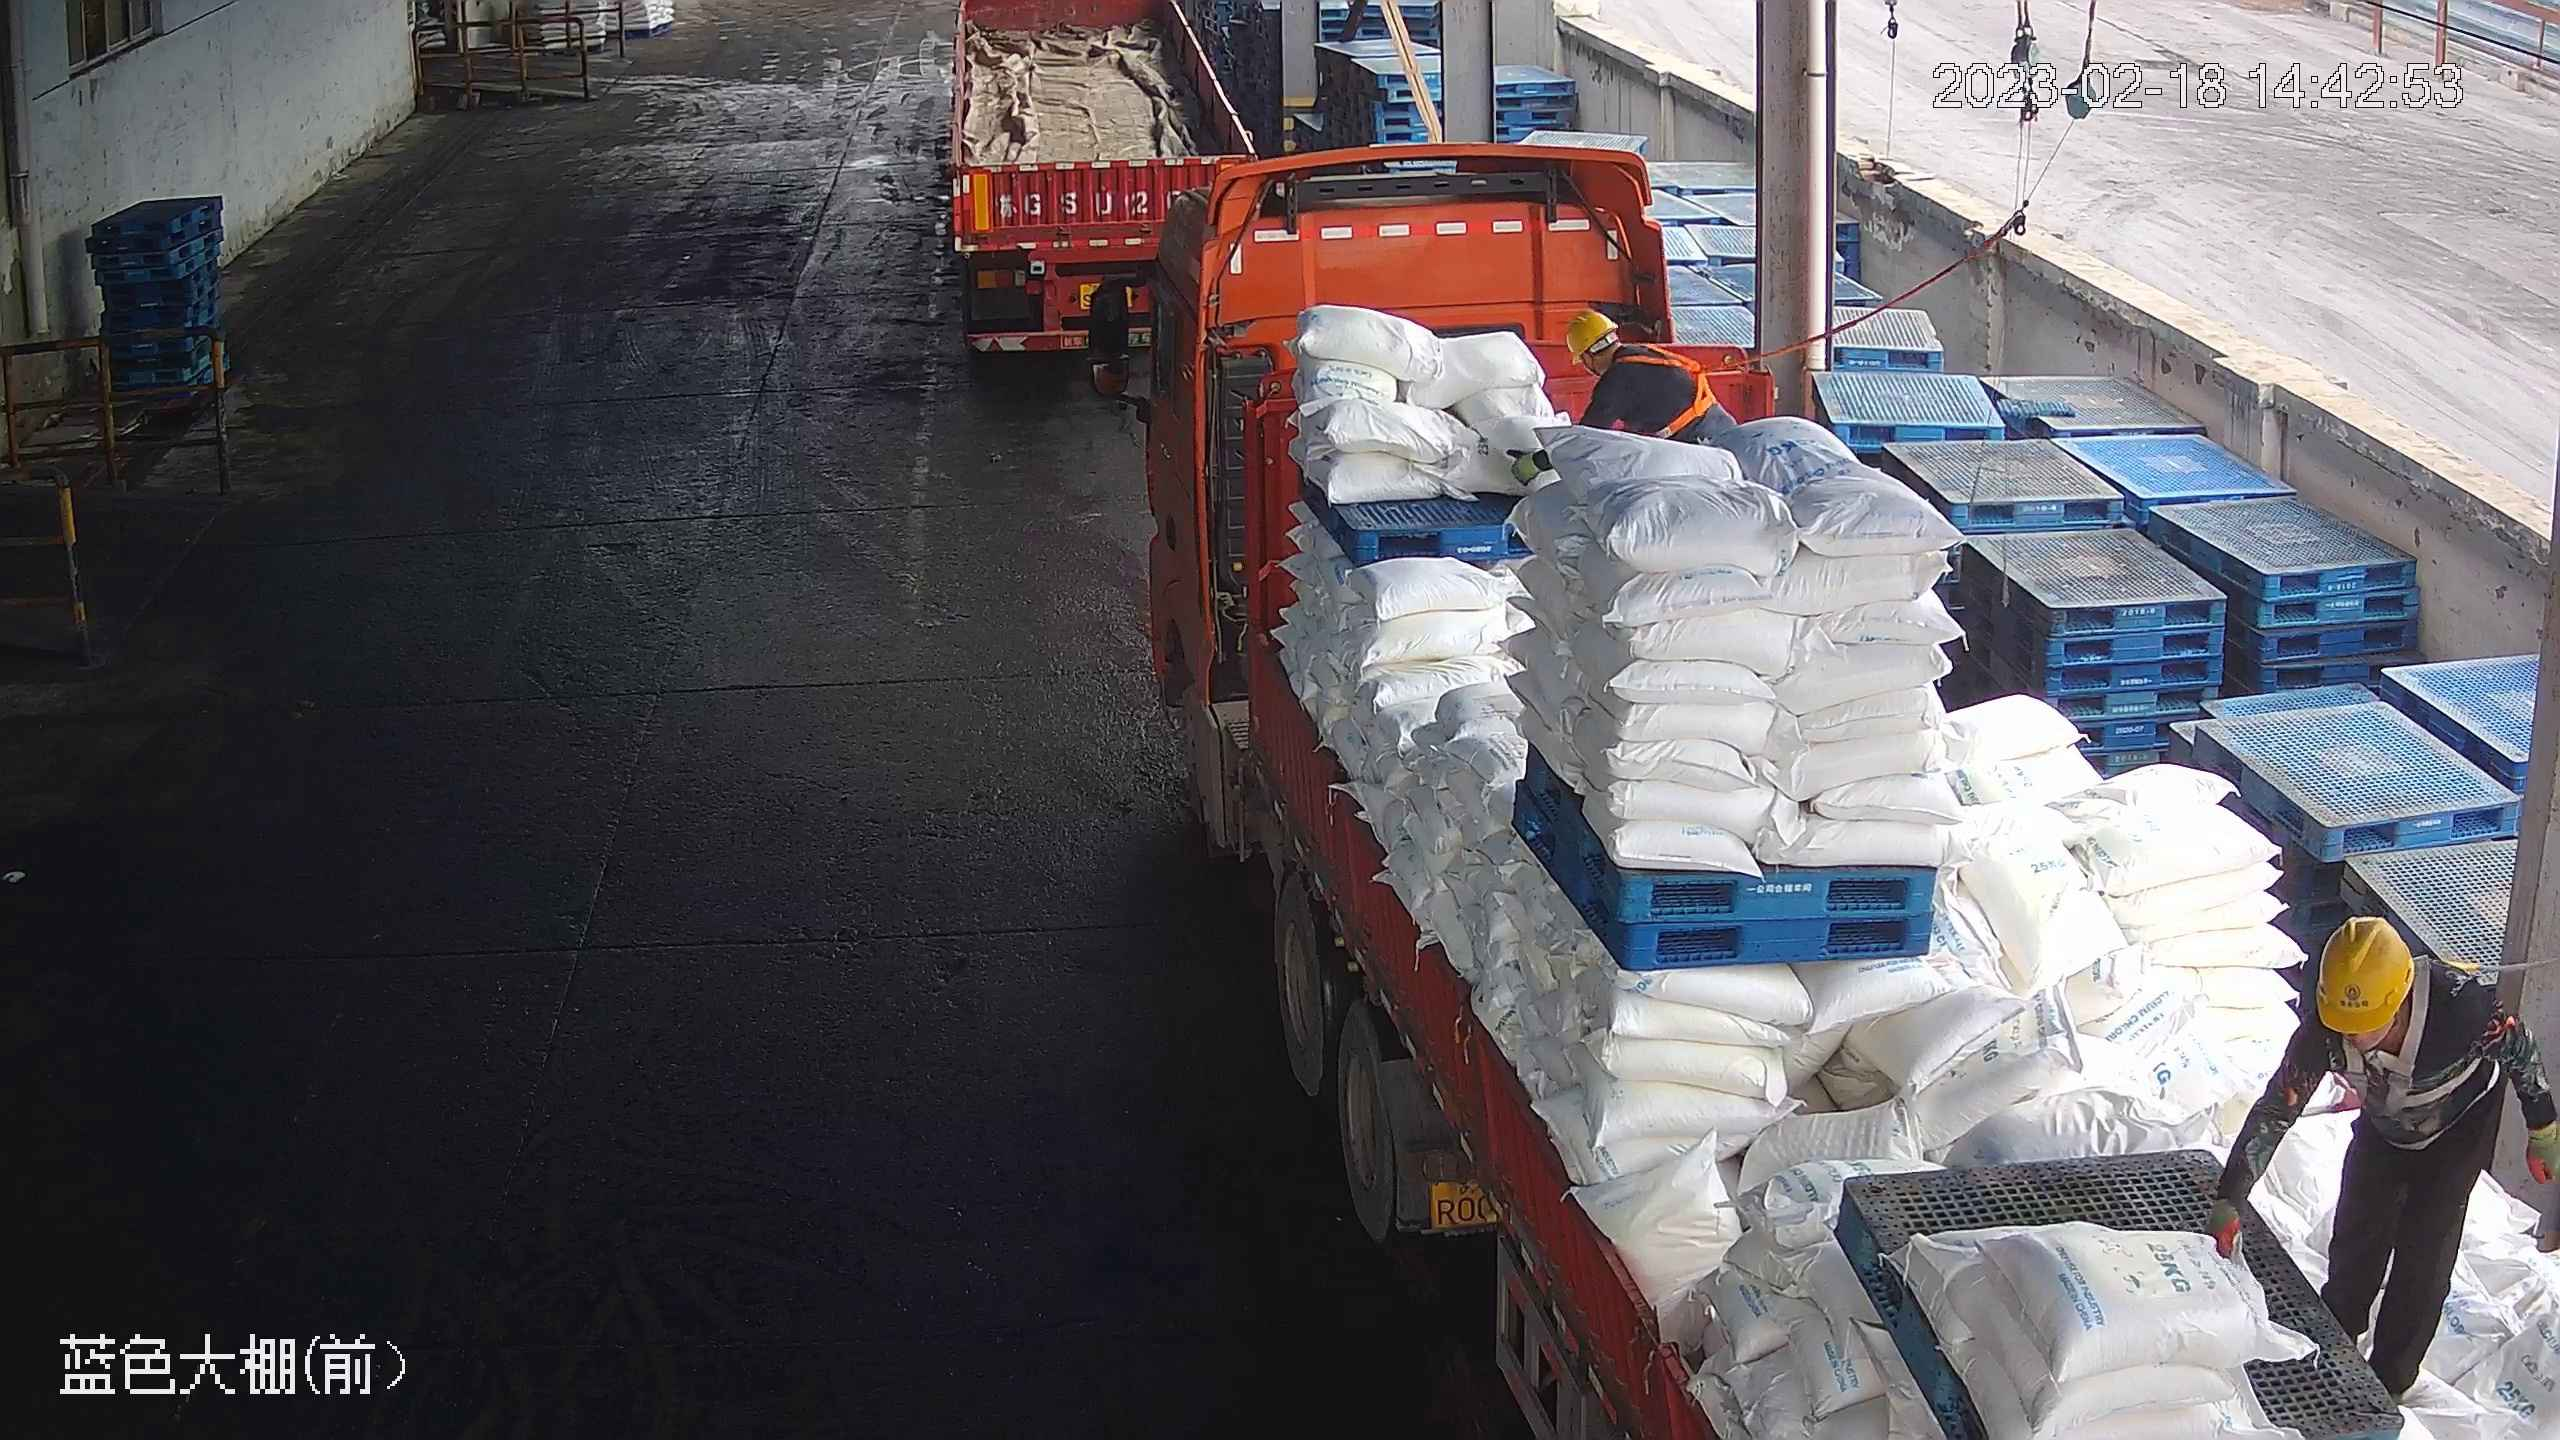belt: (2349, 963, 2500, 1104), (1620, 336, 1726, 437)
head: (2287, 911, 2496, 1080), (1563, 306, 1688, 394)
helmet: (2312, 910, 2416, 1036), (1562, 306, 1617, 357)
people: (2207, 910, 2560, 1410)
truck: (1085, 142, 2553, 1440), (945, 2, 1261, 356)
